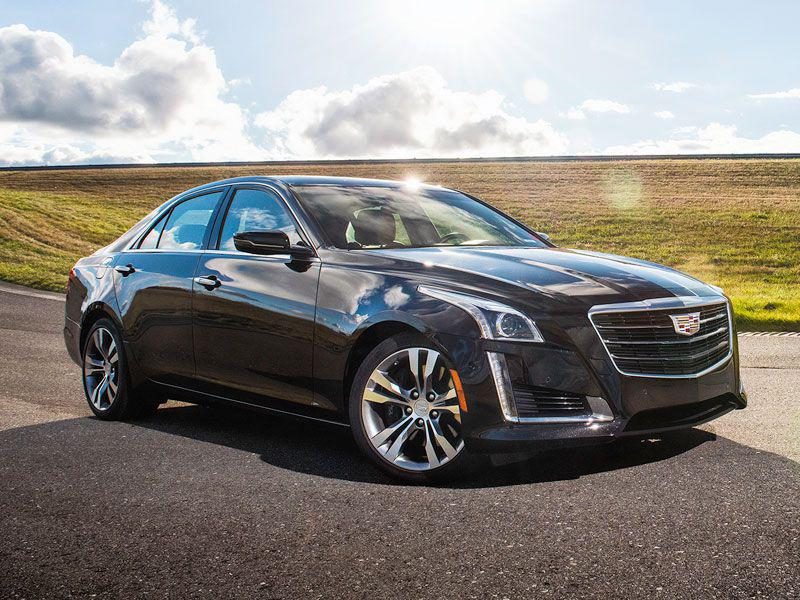car: (44, 137, 767, 493)
